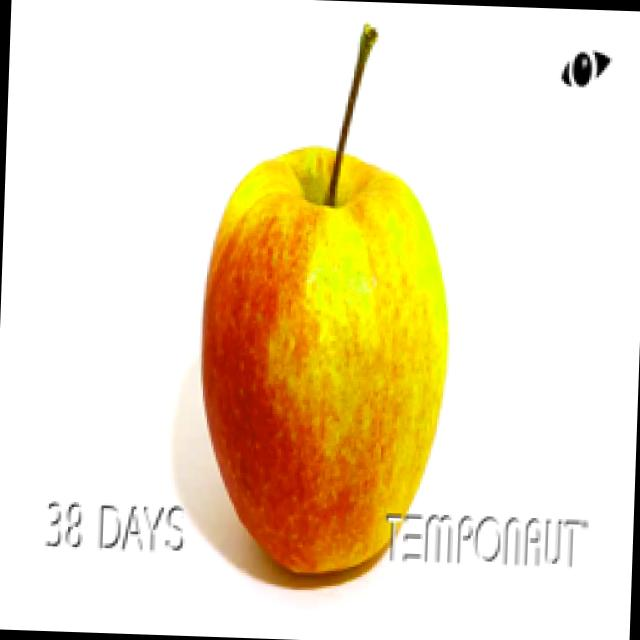Fresh_Apple: (192, 0, 462, 582)
